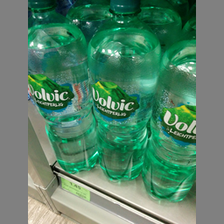water: (86, 1, 160, 184), (29, 1, 97, 175), (139, 33, 196, 203)
